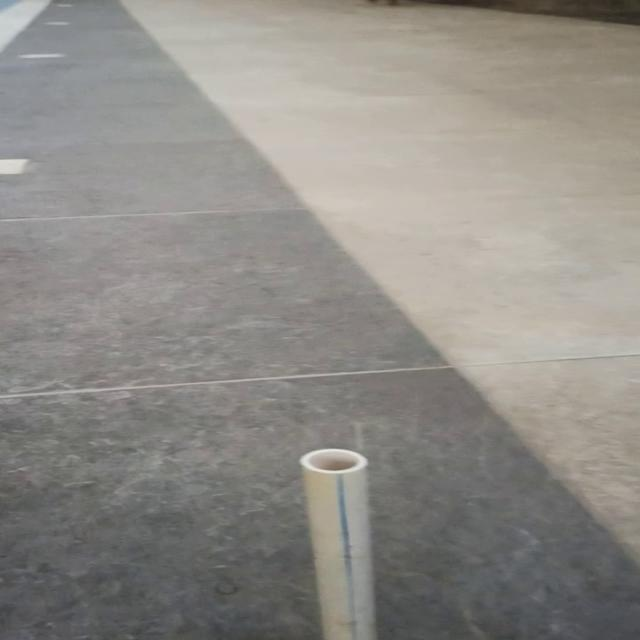Cube: (297, 448, 378, 638)
